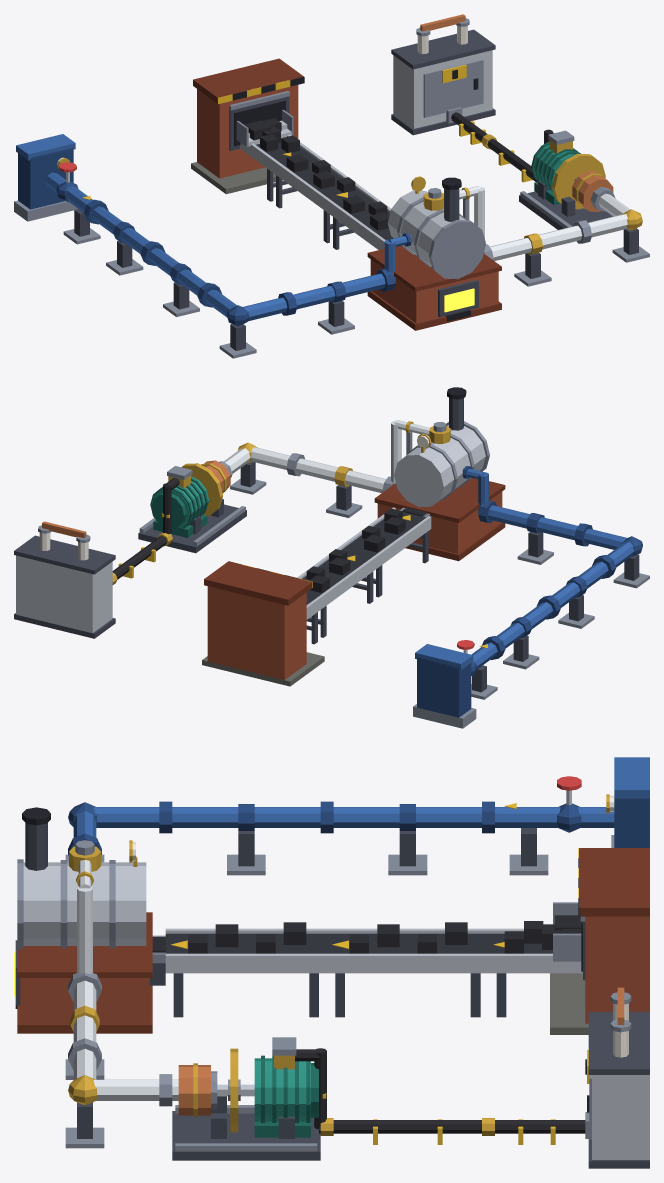
Rendered from coal-line-preview.glb.
The picture shows the model from 3 angles, top to bottom: view 1: azimuth 30°, elevation 25°; view 2: azimuth 150°, elevation 25°; view 3: azimuth 270°, elevation 25°; orthographic projection. The views are drawn at different scales.
Visible parts, largest first — view 1: coal-line-preview; view 2: coal-line-preview; view 3: coal-line-preview.
Boxes of the visible parts, left/top/right/bottom form: coal-line-preview: left=14, top=14, right=649, bottom=358; coal-line-preview: left=14, top=387, right=649, bottom=728; coal-line-preview: left=14, top=757, right=649, bottom=1168.
Bounding box in the file's own units: 4.68 × 1.3 × 3.94.
1 material, 1 textured.
